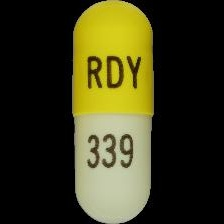33261-824: (0, 0, 224, 224)
